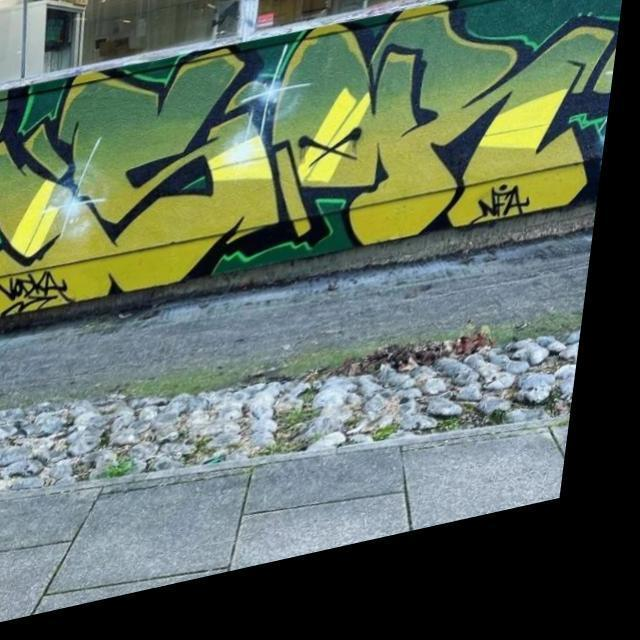-: (0, 0, 631, 346), (0, 257, 94, 337), (481, 193, 550, 257)
